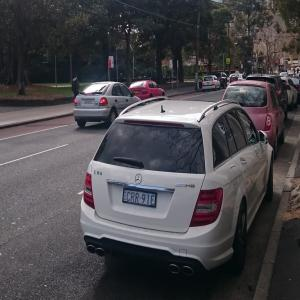Vehicle-registration-plate: (123, 188, 157, 209), (86, 100, 93, 106)
